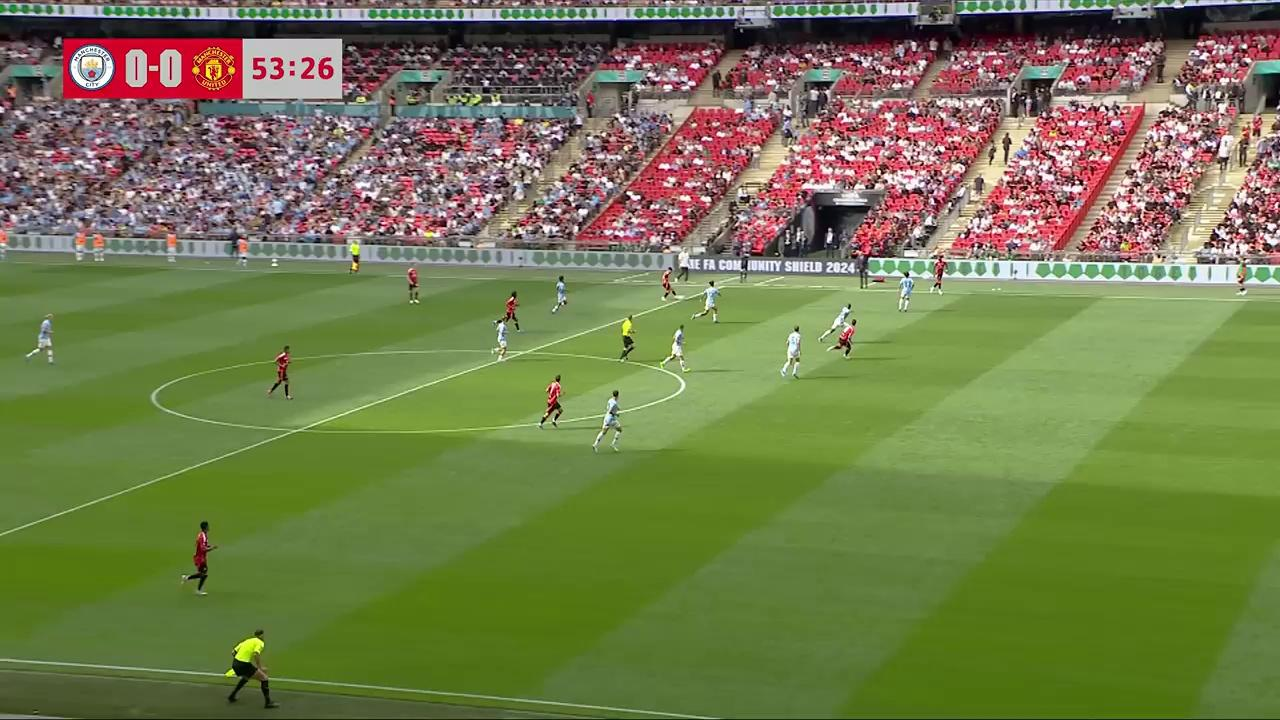ball: (677, 294, 686, 302)
player: (179, 520, 218, 594), (591, 398, 623, 453), (26, 313, 55, 364), (538, 373, 564, 429), (267, 344, 292, 399), (662, 325, 688, 370), (780, 325, 801, 379), (830, 319, 855, 358), (697, 280, 719, 323), (831, 303, 854, 343), (492, 315, 509, 362), (504, 289, 521, 332), (551, 275, 568, 314), (897, 272, 914, 311), (406, 263, 420, 304), (930, 256, 945, 294), (660, 267, 676, 301)
referee: (224, 627, 276, 707), (620, 315, 635, 362), (347, 237, 361, 274)
